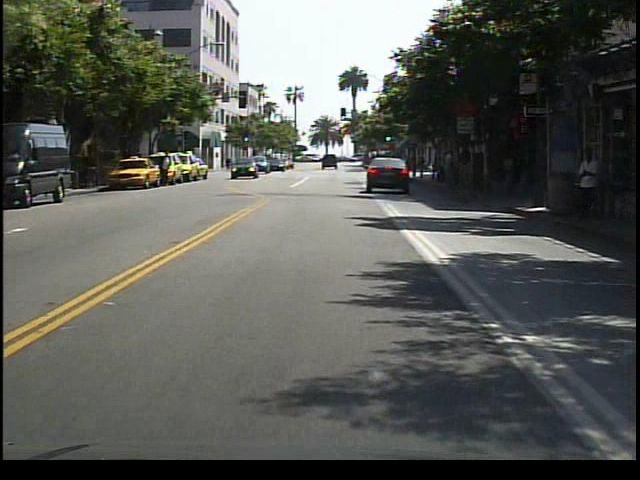person: (570, 144, 606, 227), (159, 151, 175, 190)
